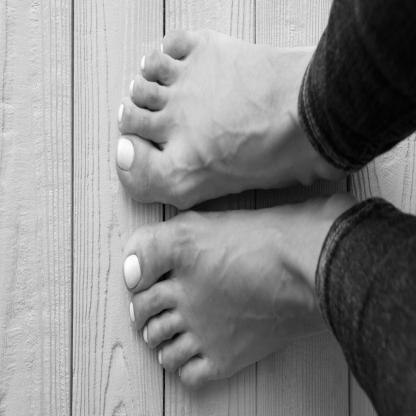ankle: (323, 157, 328, 164), (323, 224, 327, 231)
heel: (336, 200, 341, 208), (336, 174, 342, 180)
left_foot: (116, 29, 349, 192)
pinky: (169, 37, 173, 51), (192, 373, 198, 381)
right_foot: (124, 194, 362, 388)
toe: (129, 268, 135, 278), (123, 149, 127, 163)
